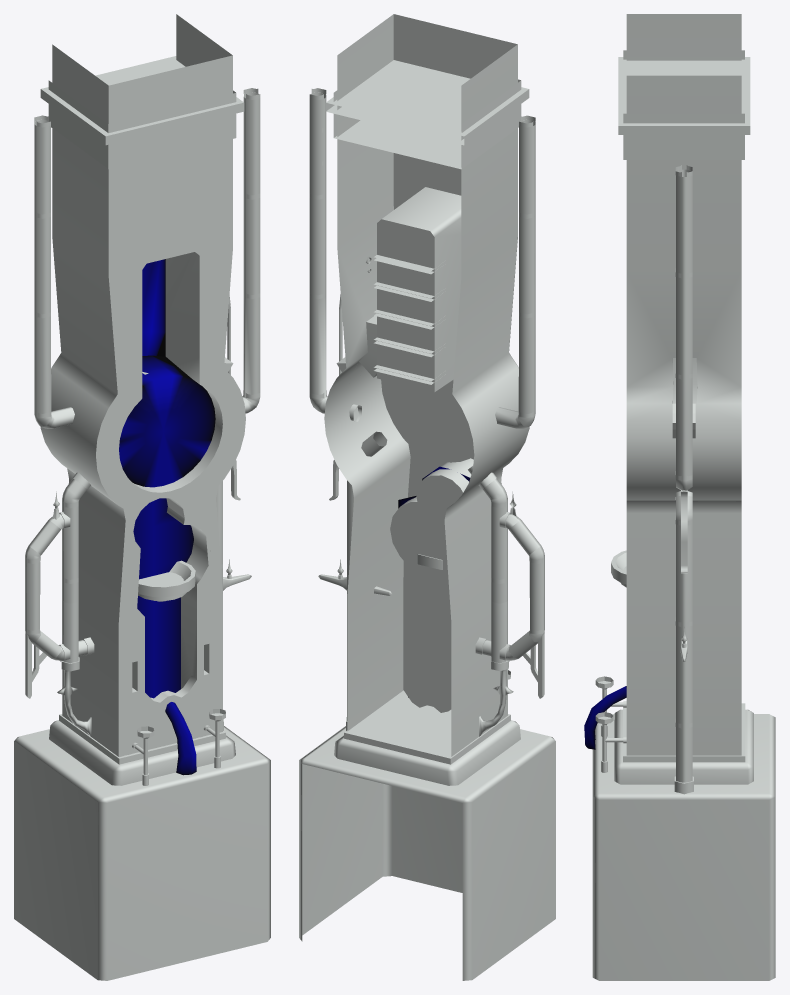
3 renders of one model, left to right at view 1: azimuth 30°, elevation 25°; view 2: azimuth 150°, elevation 25°; view 3: azimuth 270°, elevation 25°, orthographic.
Visible parts, largest first — view 1: G:\FFXIV-MapTools\exports\n4t1\bg\ex3\01_nvt_n4\twn\n4t1\bgp (×4); view 2: G:\FFXIV-MapTools\exports\n4t1\bg\ex3\01_nvt_n4\twn\n4t1\bgp (×3); view 3: G:\FFXIV-MapTools\exports\n4t1\bg\ex3\01_nvt_n4\twn\n4t1\bgp (×4).
Part boxes in pixels (box(x1,y1,x2,y2)): G:\FFXIV-MapTools\exports\n4t1\bg\ex3\01_nvt_n4\twn\n4t1\bgp (×4): box(14, 14, 270, 980); G:\FFXIV-MapTools\exports\n4t1\bg\ex3\01_nvt_n4\twn\n4t1\bgp (×3): box(299, 14, 555, 980); G:\FFXIV-MapTools\exports\n4t1\bg\ex3\01_nvt_n4\twn\n4t1\bgp (×4): box(584, 14, 775, 980).
Size of the model in its own units: 12.28 by 44.19 by 8.59.
